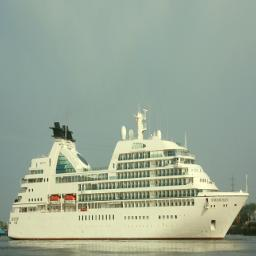cruises: (7, 103, 251, 246)
